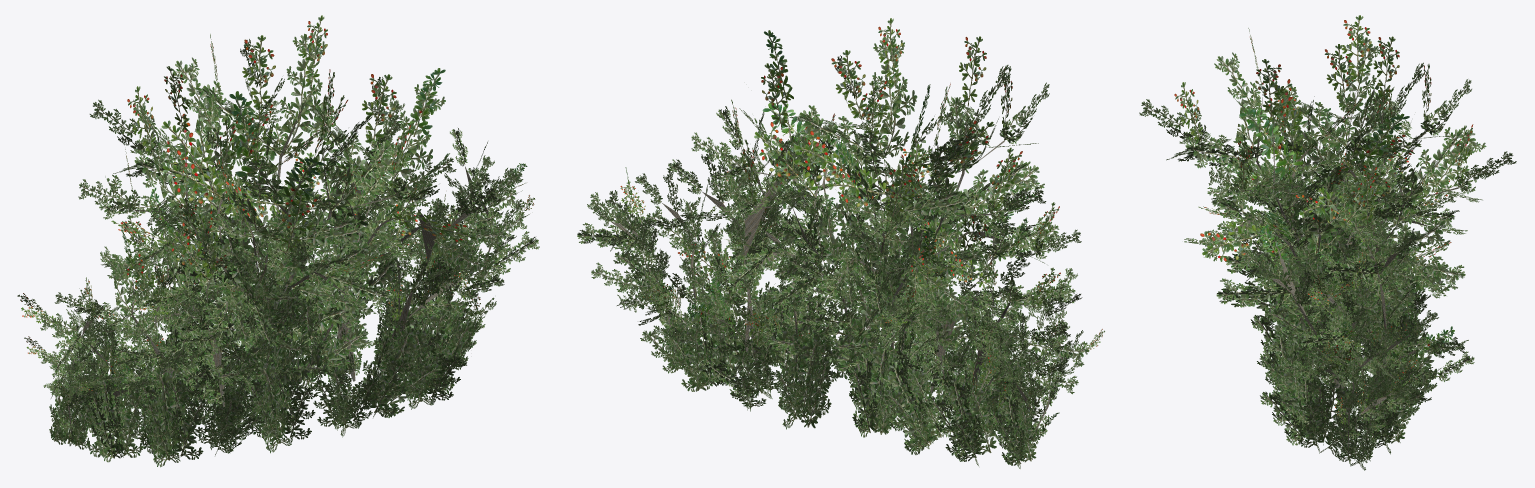
The model's file is Plant_C.glb.
3 renders of one model, left to right at view 1: azimuth 30°, elevation 25°; view 2: azimuth 150°, elevation 25°; view 3: azimuth 270°, elevation 25°, orthographic. The views are drawn at different scales.
Visible parts, largest first — view 1: Plant_C; view 2: Plant_C; view 3: Plant_C.
Boxes of the visible parts, x1,y1,x2,y2 form: Plant_C: (17,15,539,467); Plant_C: (577,18,1104,468); Plant_C: (1139,15,1516,470).
Bounding box in the file's own units: 1.32 × 0.9571 × 0.9663.
2 materials, 2 textured.
